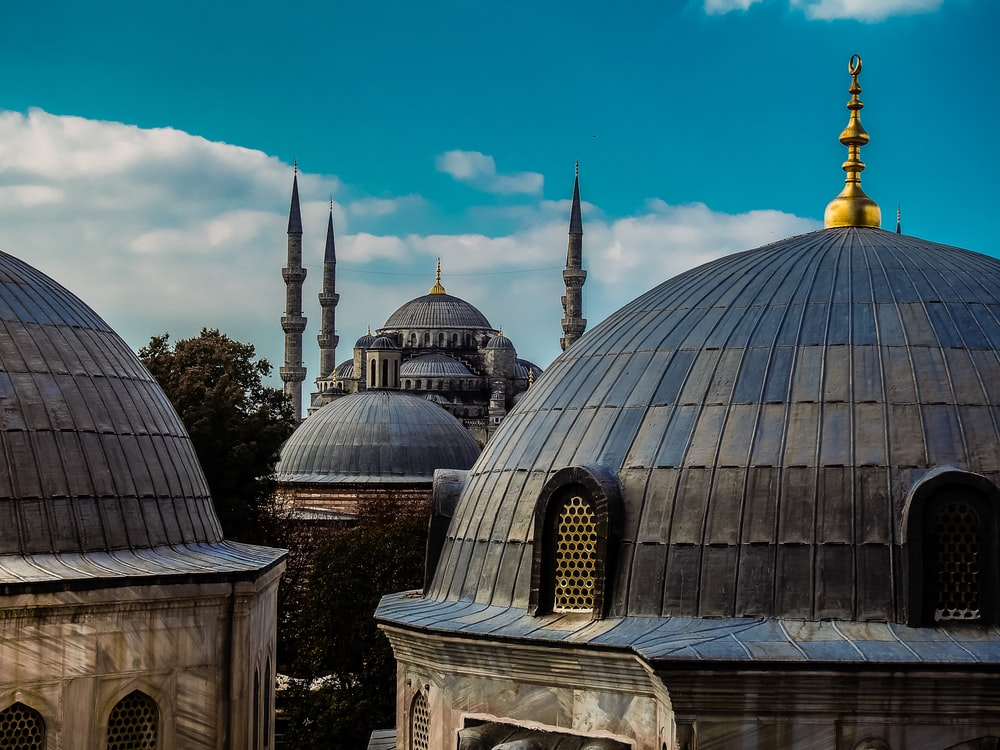Mosque: (11, 93, 1000, 720)
